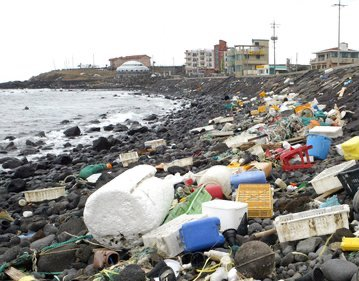buoy: (81, 163, 174, 249)
